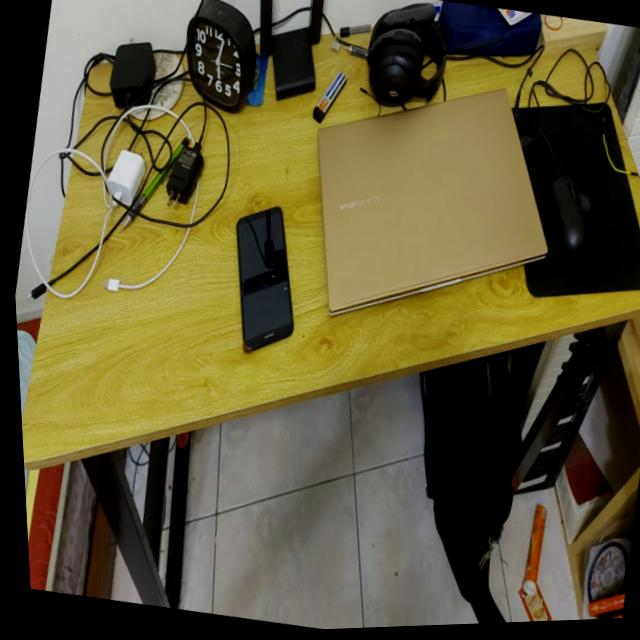Smartphone: (233, 207, 289, 353)
